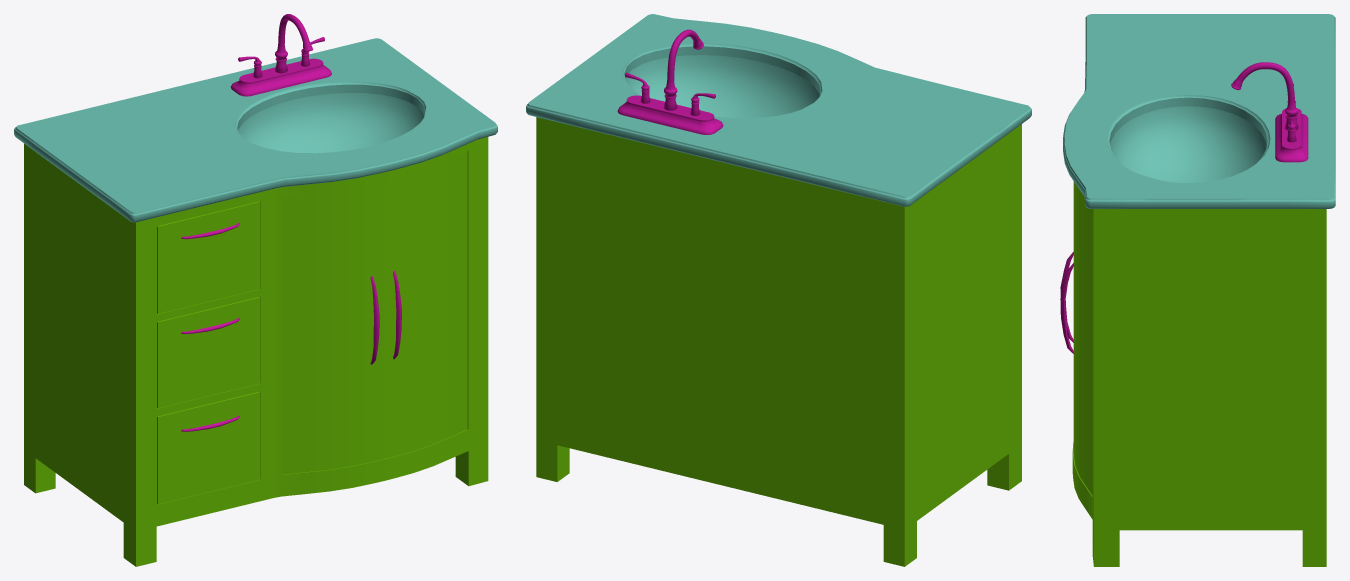
The model's file is SinkCabinet.fbx.
3 renders of one model, left to right at view 1: azimuth 30°, elevation 25°; view 2: azimuth 150°, elevation 25°; view 3: azimuth 270°, elevation 25°, orthographic. The views are drawn at different scales.
Parts seen in each view (by area): view 1: SinkCabinet; view 2: SinkCabinet; view 3: SinkCabinet.
Boxes of the visible parts, x1,y1,x2,y2 form: SinkCabinet: (14, 14, 497, 566); SinkCabinet: (526, 14, 1031, 566); SinkCabinet: (1060, 14, 1335, 566).
Size of the model in its own units: 1.07 by 1.2 by 0.6703.
